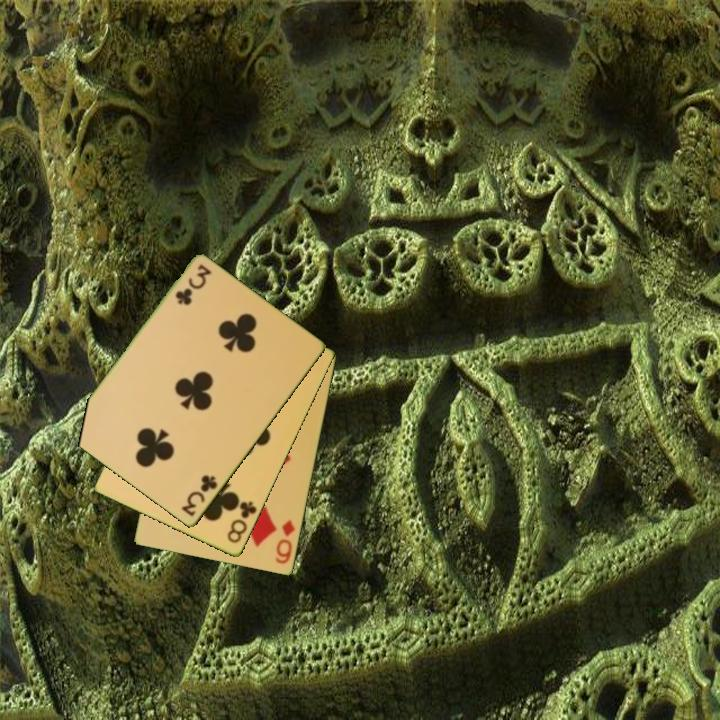3c: (178, 471, 221, 520), (171, 261, 213, 308)
6d: (272, 516, 298, 567)
8c: (223, 498, 260, 546)
